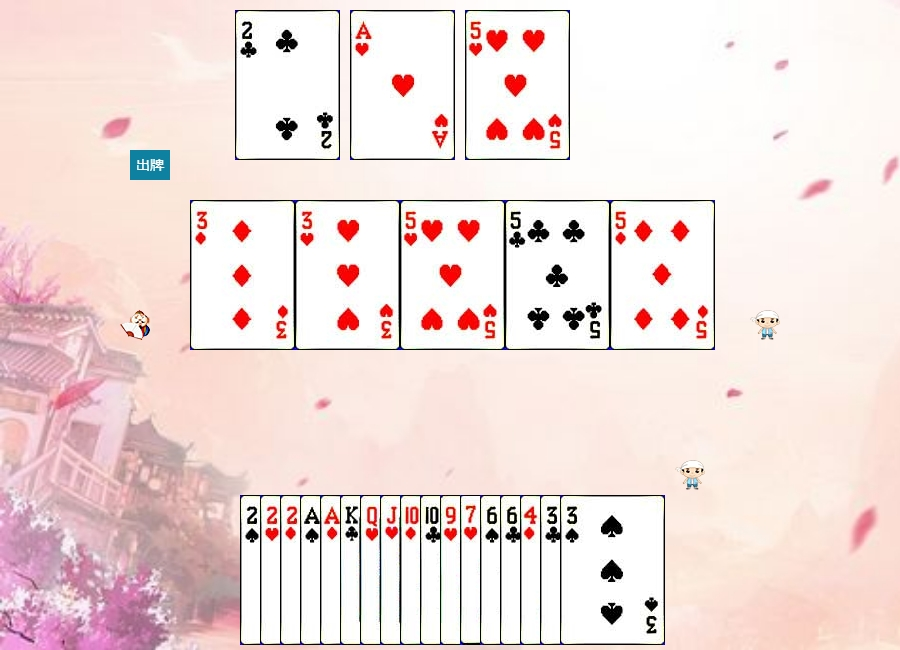10~1: (400, 495, 505, 645)
10~2: (420, 495, 525, 645)
11~3: (380, 495, 485, 645)
12~3: (360, 495, 465, 645)
13~2: (340, 495, 445, 645)
14~1: (320, 495, 425, 645)
14~3: (350, 10, 455, 160)
14~4: (300, 495, 405, 645)
15~1: (280, 495, 385, 645)
15~2: (235, 10, 340, 160)
15~3: (260, 495, 365, 645)
15~4: (240, 495, 345, 645)
3~1: (190, 200, 295, 350)
3~2: (540, 495, 645, 645)
3~3: (295, 200, 400, 350)
3~4: (560, 495, 665, 645)
4~1: (520, 495, 625, 645)
5~1: (610, 200, 715, 350)
5~2: (505, 200, 610, 350)
5~3: (465, 10, 570, 160), (400, 200, 505, 350)
6~2: (500, 495, 605, 645)
6~4: (480, 495, 585, 645)
7~3: (460, 495, 565, 645)
9~3: (440, 495, 545, 645)
